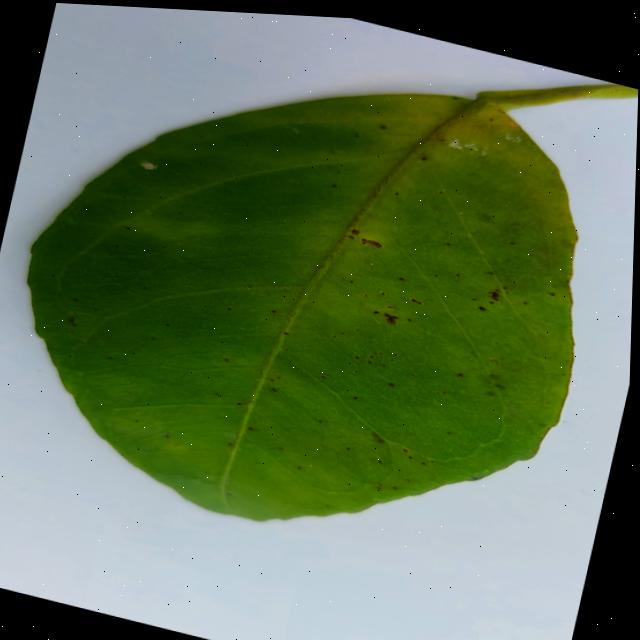greening: (30, 85, 638, 520)
